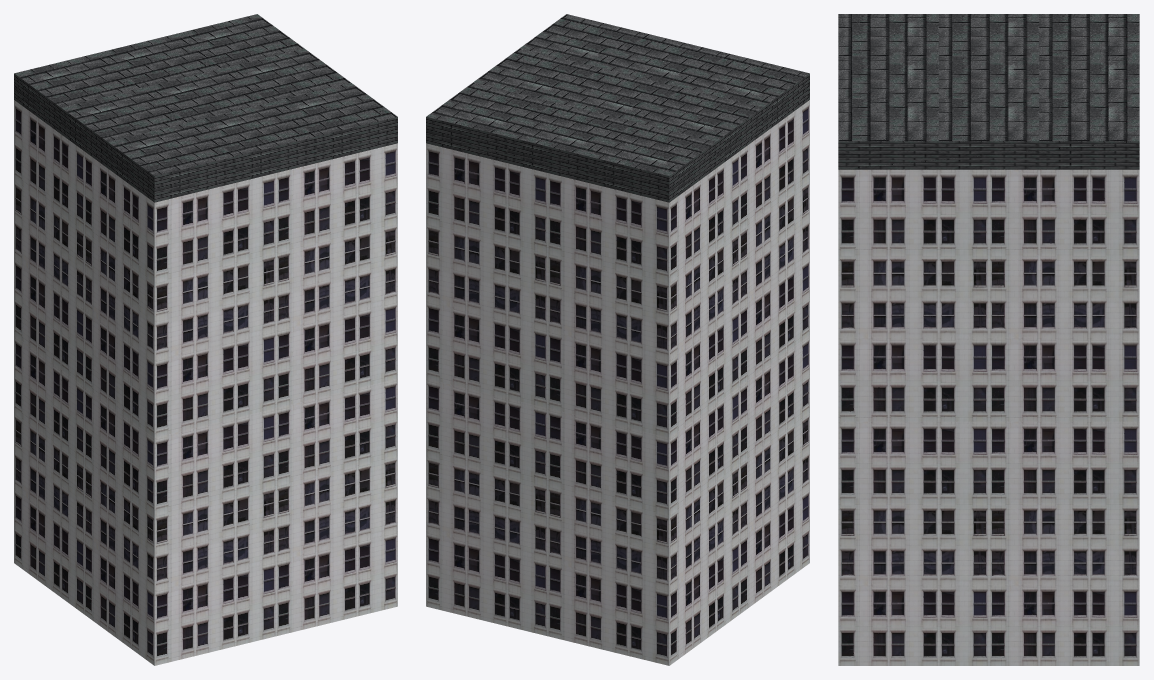
The model's file is 12_Storey_Building_White.FBX.
3 renders of one model, left to right at view 1: azimuth 30°, elevation 25°; view 2: azimuth 150°, elevation 25°; view 3: azimuth 270°, elevation 25°, orthographic. The views are drawn at different scales.
Parts seen in each view (by area): view 1: Box005; view 2: Box005; view 3: Box005.
Boxes of the visible parts, x1=… form: Box005: x1=14, y1=14, x2=397, y2=665; Box005: x1=426, y1=14, x2=809, y2=665; Box005: x1=838, y1=14, x2=1139, y2=665.
Bounding box in the file's own units: 35 × 67.33 × 35.
2 materials, 2 textured.
